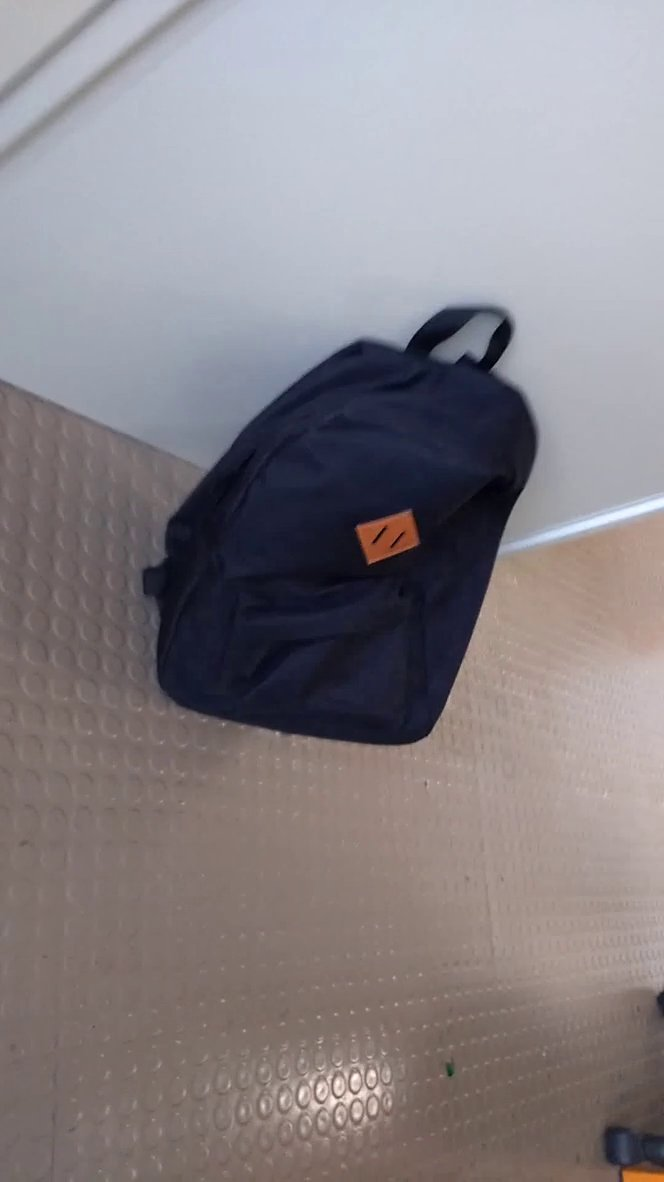bag: (131, 284, 541, 775)
